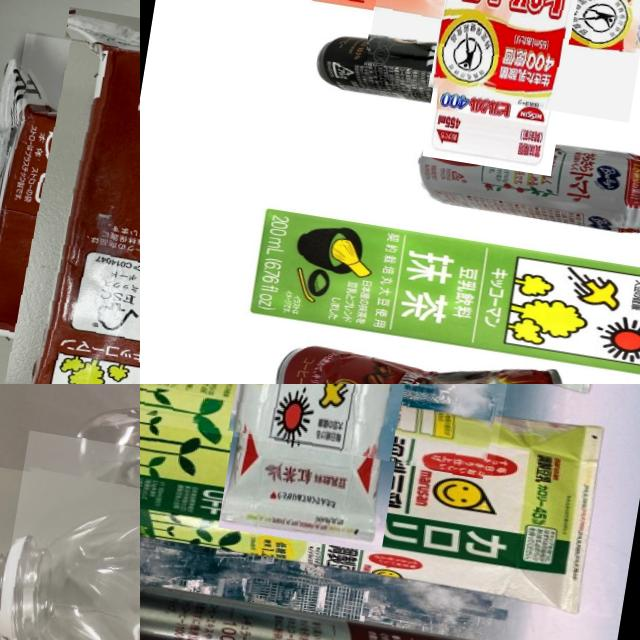Aluminium Foil: (140, 384, 610, 610), (242, 200, 640, 384), (0, 33, 140, 384), (140, 384, 542, 477), (362, 0, 640, 123)
Can: (411, 118, 640, 242), (140, 578, 556, 640), (323, 19, 526, 122), (272, 331, 566, 384)
Transparent Plastic Bottle: (0, 430, 140, 640)
